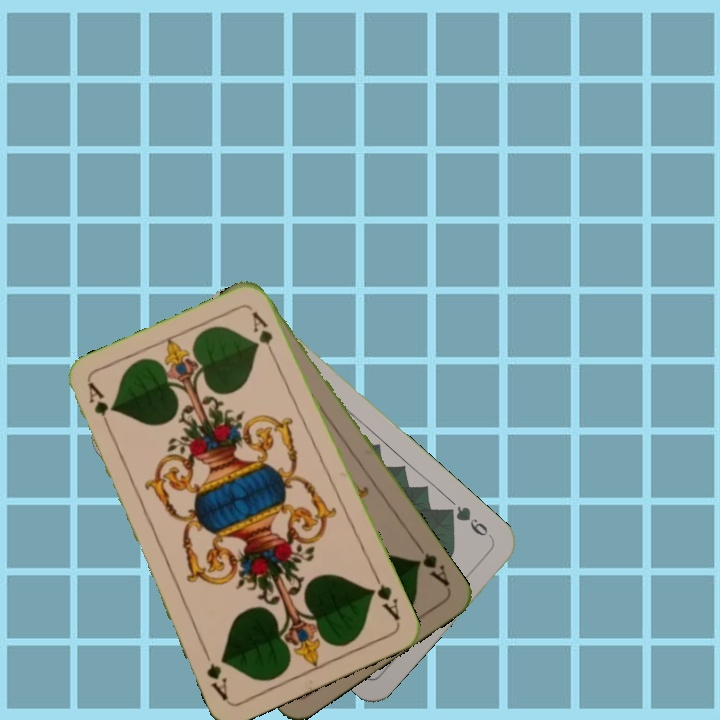G9: (441, 502, 495, 541)
GA: (410, 539, 453, 589), (366, 569, 403, 624), (83, 378, 114, 436)
